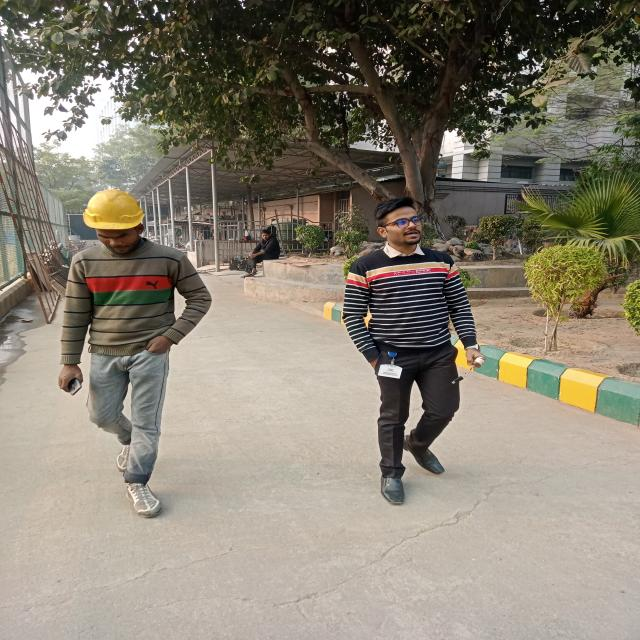no jacket: (36, 184, 200, 526)
unsafe: (333, 200, 475, 505)
